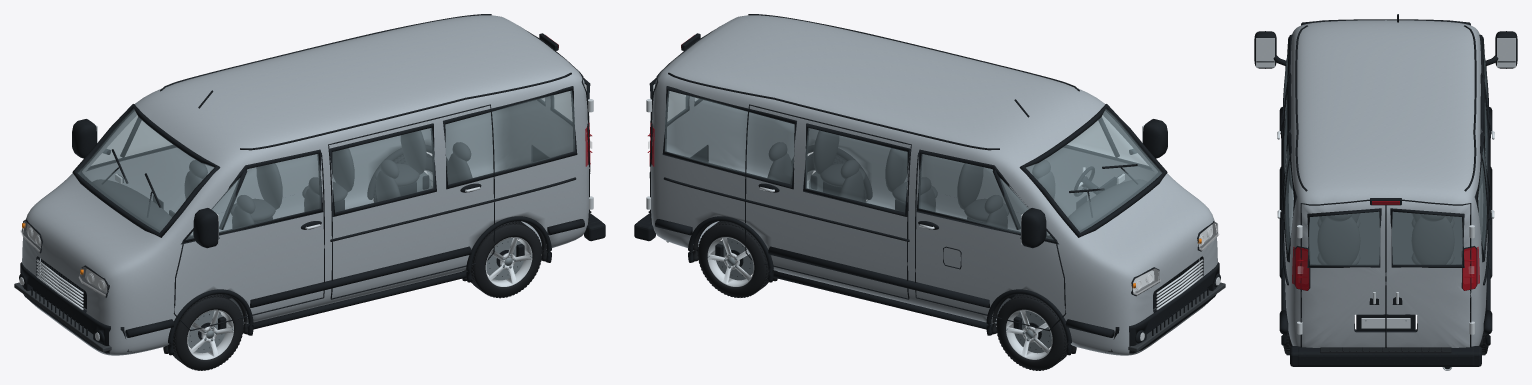
Rendered from passenger-van-with-side-windows.glb.
3 renders of one model, left to right at view 1: azimuth 30°, elevation 25°; view 2: azimuth 150°, elevation 25°; view 3: azimuth 270°, elevation 25°, orthographic.
Parts seen in each view (by area): view 1: Van continuous hollow 12-station steel shell, Van raked panoramic windscreen curved laminated transparent , Passenger bonded side glazing curved transparent pane -1.001, Passenger bonded side glazing curved transparent pane -1, Front door window curved transparent pane -1, Van raked panoramic windscreen recessed rubber gasket, 107 reused Sculpted_tyre, 107 reused Sculpted_tyre.002, Textured protective lower side rubbing strip.001, Rocker moulding, Wide moulded front bumper fascia, Sculpted dashboard (+23 smaller); view 2: Van continuous hollow 12-station steel shell, Van raked panoramic windscreen curved laminated transparent , Passenger bonded side glazing curved transparent pane 1.001, Passenger bonded side glazing curved transparent pane 1, Front door window curved transparent pane 1, 107 reused Sculpted_tyre.001, Van raked panoramic windscreen recessed rubber gasket, 107 reused Sculpted_tyre.003, Textured protective lower side rubbing strip.004, Wide moulded front bumper fascia, Rocker moulding.001, Sculpted dashboard (+23 smaller); view 3: Van continuous hollow 12-station steel shell, Rear barn door transparent glazing, Rear barn door transparent glazing.001, Cabin floor, Broad contoured rear step bumper main manufactured bar, Cabin row 3 contoured backrest, Cabin row 3 contoured backrest.001, Vertical corner wrap tail lamp continuous formed optical len (×2), Broad contoured rear step bumper step tread insert, Rear barn door glass gasket.001, Rear barn door glass gasket, Passenger bonded side glazing extruded EPDM surround 1.001 (+26 smaller).
Boxes of the visible parts, x1,y1,x2,y2 form: Van continuous hollow 12-station steel shell: [22, 15, 588, 355]; Van raked panoramic windscreen curved laminated transparent : [77, 108, 213, 232]; Passenger bonded side glazing curved transparent pane -1.001: [445, 90, 574, 184]; Passenger bonded side glazing curved transparent pane -1: [332, 128, 434, 212]; Front door window curved transparent pane -1: [182, 154, 321, 241]; Van raked panoramic windscreen recessed rubber gasket: [72, 104, 220, 237]; 107 reused Sculpted_tyre: [171, 294, 243, 370]; 107 reused Sculpted_tyre.002: [470, 221, 541, 297]; Textured protective lower side rubbing strip.001: [250, 246, 471, 307]; Rocker moulding: [247, 271, 466, 330]; Wide moulded front bumper fascia: [20, 262, 134, 353]; Sculpted dashboard: [92, 179, 186, 239]; Van continuous hollow 12-station steel shell: [651, 15, 1217, 355]; Van raked panoramic windscreen curved laminated transparent : [1026, 108, 1162, 232]; Passenger bonded side glazing curved transparent pane 1.001: [664, 90, 794, 184]; Passenger bonded side glazing curved transparent pane 1: [805, 128, 907, 212]; Front door window curved transparent pane 1: [918, 154, 1057, 241]; 107 reused Sculpted_tyre.001: [996, 294, 1068, 370]; Van raked panoramic windscreen recessed rubber gasket: [1019, 104, 1167, 237]; 107 reused Sculpted_tyre.003: [698, 221, 769, 297]; Textured protective lower side rubbing strip.004: [768, 246, 989, 307]; Wide moulded front bumper fascia: [1105, 262, 1219, 353]; Rocker moulding.001: [773, 271, 992, 330]; Sculpted dashboard: [1053, 179, 1147, 239]; Van continuous hollow 12-station steel shell: [1284, 20, 1487, 347]; Rear barn door transparent glazing: [1309, 211, 1379, 265]; Rear barn door transparent glazing.001: [1392, 211, 1462, 264]; Cabin floor: [1309, 211, 1462, 264]; Broad contoured rear step bumper main manufactured bar: [1297, 347, 1474, 366]; Cabin row 3 contoured backrest: [1317, 216, 1360, 264]; Cabin row 3 contoured backrest.001: [1411, 216, 1454, 264]; Vertical corner wrap tail lamp continuous formed optical len (×2): [1295, 247, 1476, 290]; Broad contoured rear step bumper step tread insert: [1320, 347, 1451, 353]; Rear barn door glass gasket.001: [1390, 208, 1464, 267]; Rear barn door glass gasket: [1307, 208, 1381, 267]; Passenger bonded side glazing extruded EPDM surround 1.001: [1474, 132, 1490, 262].
Size of the model in its own units: 5.7 by 2.44 by 2.62.
Materials: 11 (11 with a texture image).
